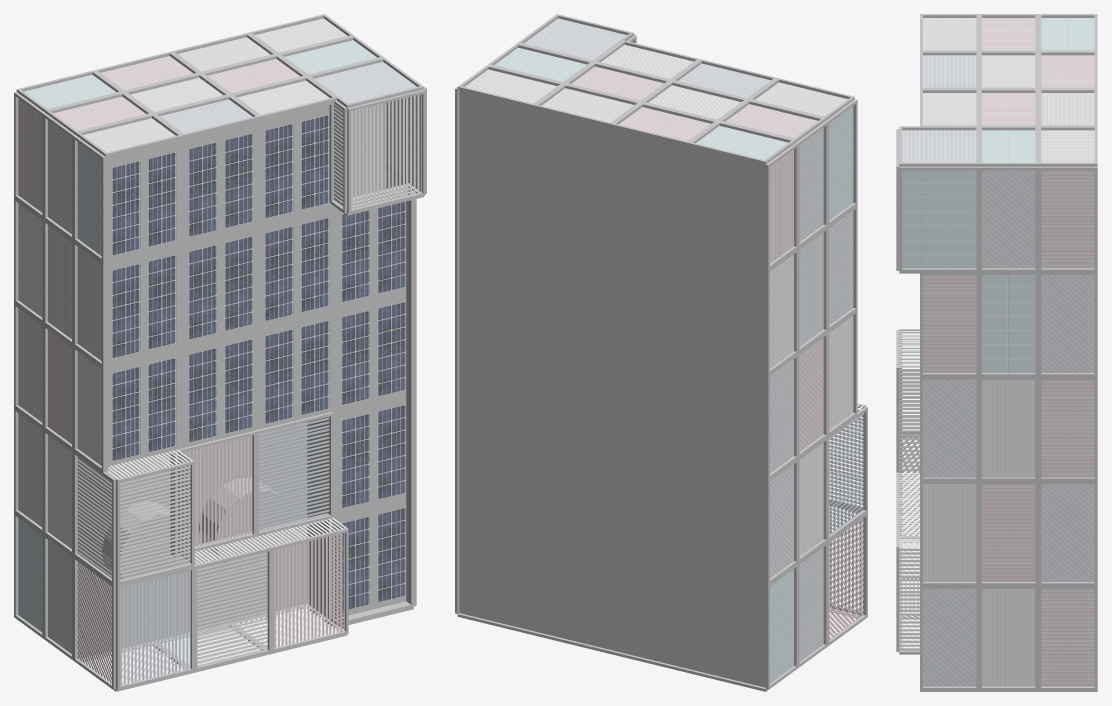
3 views of the same model, side by side, from view 1: azimuth 30°, elevation 25°; view 2: azimuth 150°, elevation 25°; view 3: azimuth 270°, elevation 25° (orthographic).
Visible parts, largest first — view 1: 太阳能板, 底面1, 窗框玻璃.004, 窗框玻璃.005, 窗框玻璃.003, 窗框1, 窗框4, 窗框5, 1, 挡板, 窗框玻璃.008, 窗框玻璃.010 (+9 smaller); view 2: 底面4, 窗框玻璃.004, 窗框玻璃.003, 窗框1, 窗框4, 窗框3, 窗框玻璃.005, 窗框2; view 3: 窗框玻璃.009, 窗框玻璃.003, 窗框3, 窗框4, 窗框玻璃.010, 窗框玻璃.004, 窗框5, 窗框玻璃.002, 窗框2, 窗框1, 窗框6.
Boxes of the visible parts, <box> form: 太阳能板: <box>112,114,405,610</box>; 底面1: <box>77,105,406,659</box>; 窗框玻璃.004: <box>18,98,111,683</box>; 窗框玻璃.005: <box>120,417,344,685</box>; 窗框玻璃.003: <box>24,18,416,152</box>; 窗框1: <box>14,92,115,689</box>; 窗框4: <box>16,14,424,156</box>; 窗框5: <box>116,412,348,690</box>; 1: <box>102,478,292,596</box>; 挡板: <box>105,101,413,624</box>; 窗框玻璃.008: <box>351,94,421,209</box>; 窗框玻璃.010: <box>107,449,346,628</box>; 底面4: <box>459,90,765,687</box>; 窗框玻璃.004: <box>770,106,863,683</box>; 窗框玻璃.003: <box>465,18,847,159</box>; 窗框1: <box>766,99,867,689</box>; 窗框4: <box>457,14,854,164</box>; 窗框3: <box>455,87,459,613</box>; 窗框玻璃.005: <box>829,407,862,611</box>; 窗框2: <box>457,608,863,691</box>; 窗框玻璃.009: <box>902,170,1094,686</box>; 窗框玻璃.003: <box>902,18,1094,162</box>; 窗框3: <box>899,166,1097,690</box>; 窗框4: <box>899,14,1097,166</box>; 窗框玻璃.010: <box>899,331,919,650</box>; 窗框玻璃.004: <box>902,333,919,535</box>; 窗框5: <box>896,330,899,651</box>; 窗框玻璃.002: <box>902,540,919,648</box>; 窗框2: <box>899,540,1097,691</box>; 窗框1: <box>899,329,919,538</box>; 窗框6: <box>896,129,899,270</box>.
Bounding box in the file's own units: 36.55 × 59.09 × 20.38.
11 materials, 10 textured.
